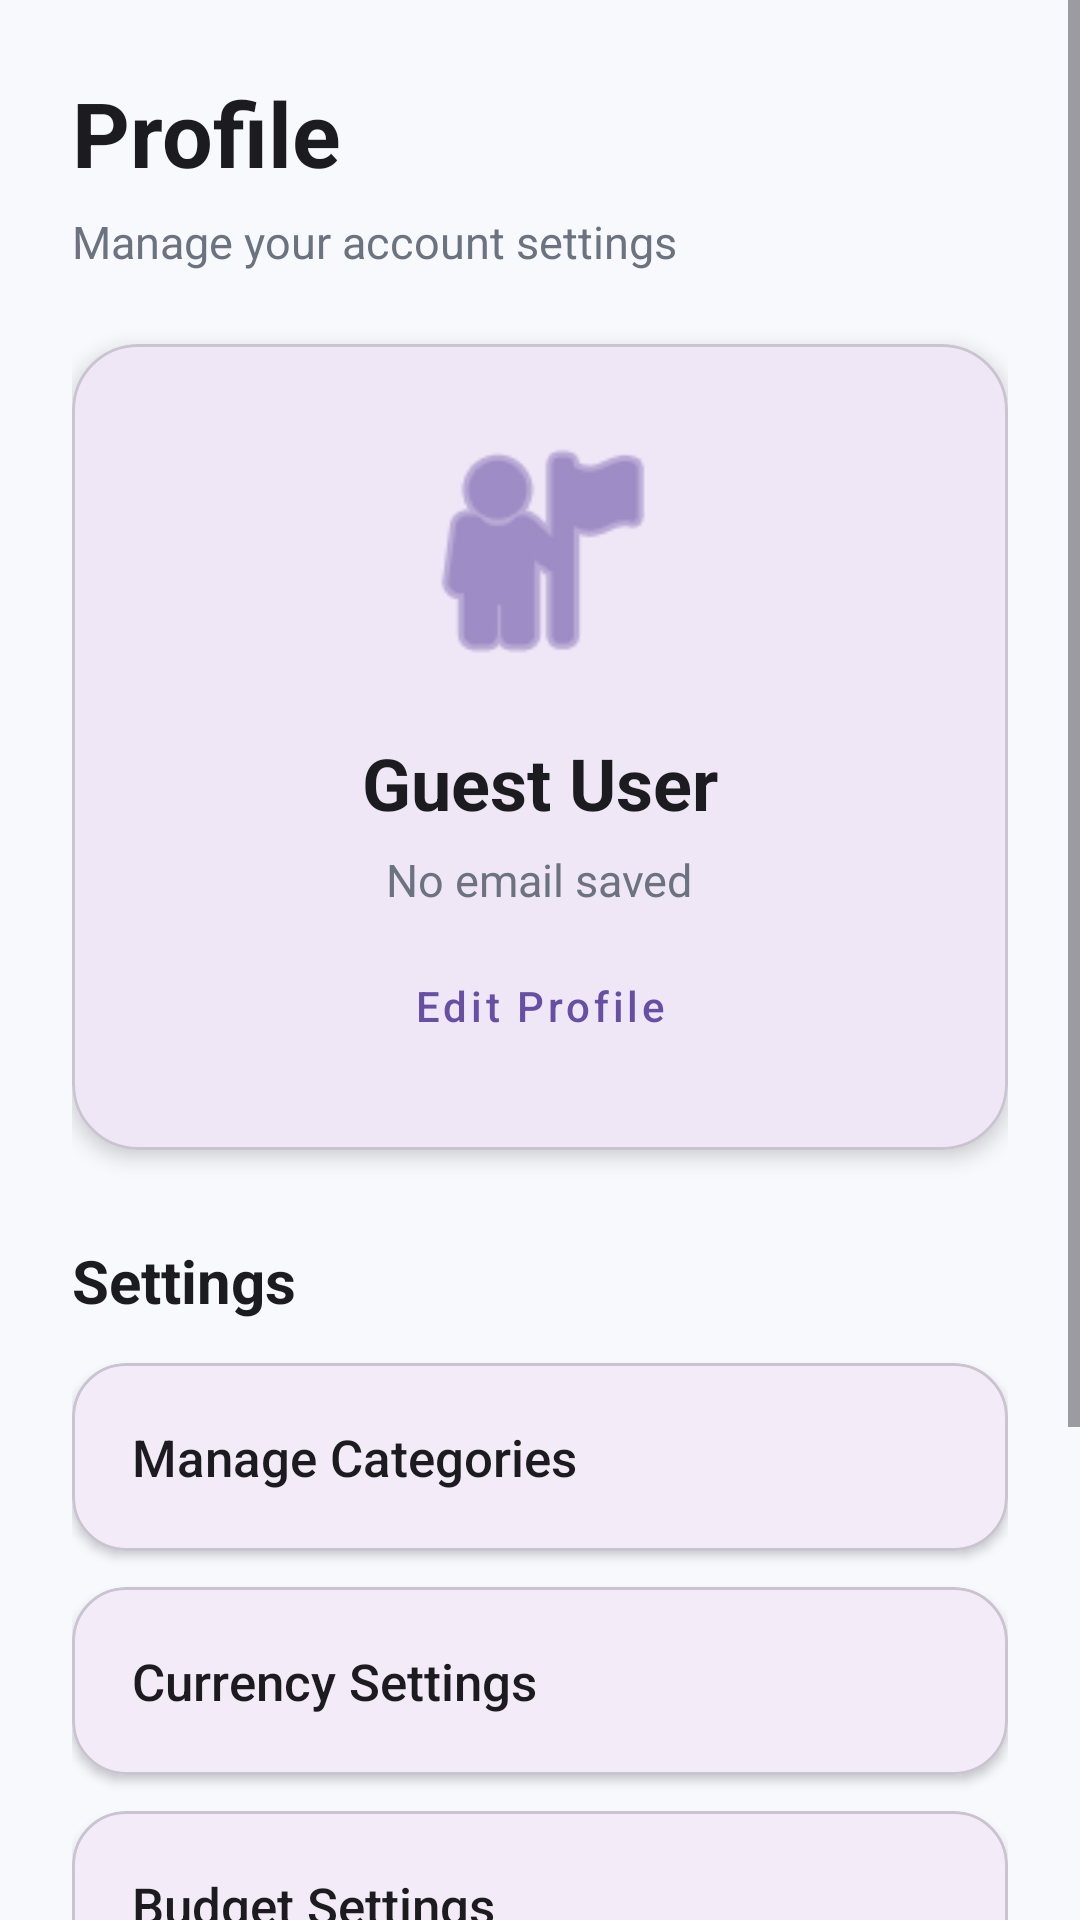

Icon click points for this 1080px×1920px phone screenshot, format (x=x, y=y):
myplaces: (x=543, y=551)
